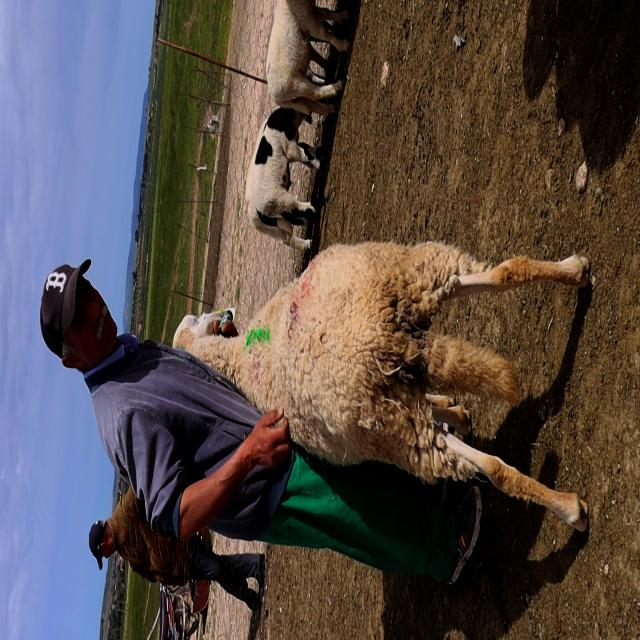Score_1: (173, 241, 590, 532)
